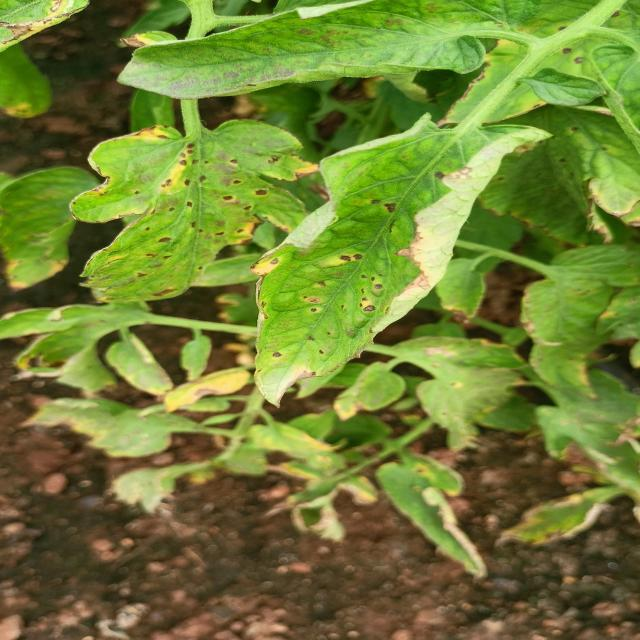Tomato mosaic virus leaf: (245, 116, 534, 410), (61, 120, 315, 307)
